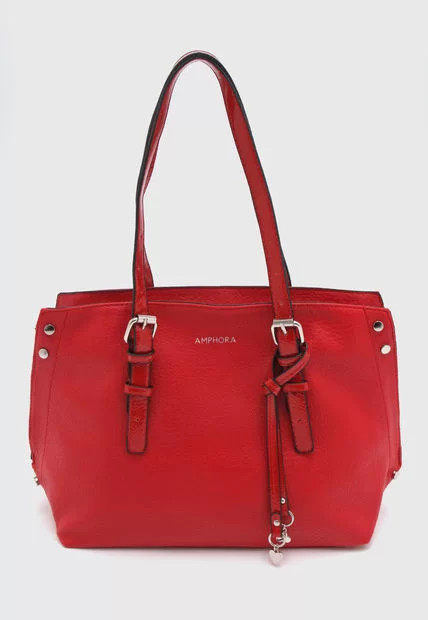cartera: (28, 50, 403, 568)
cuero: (38, 288, 391, 550)
